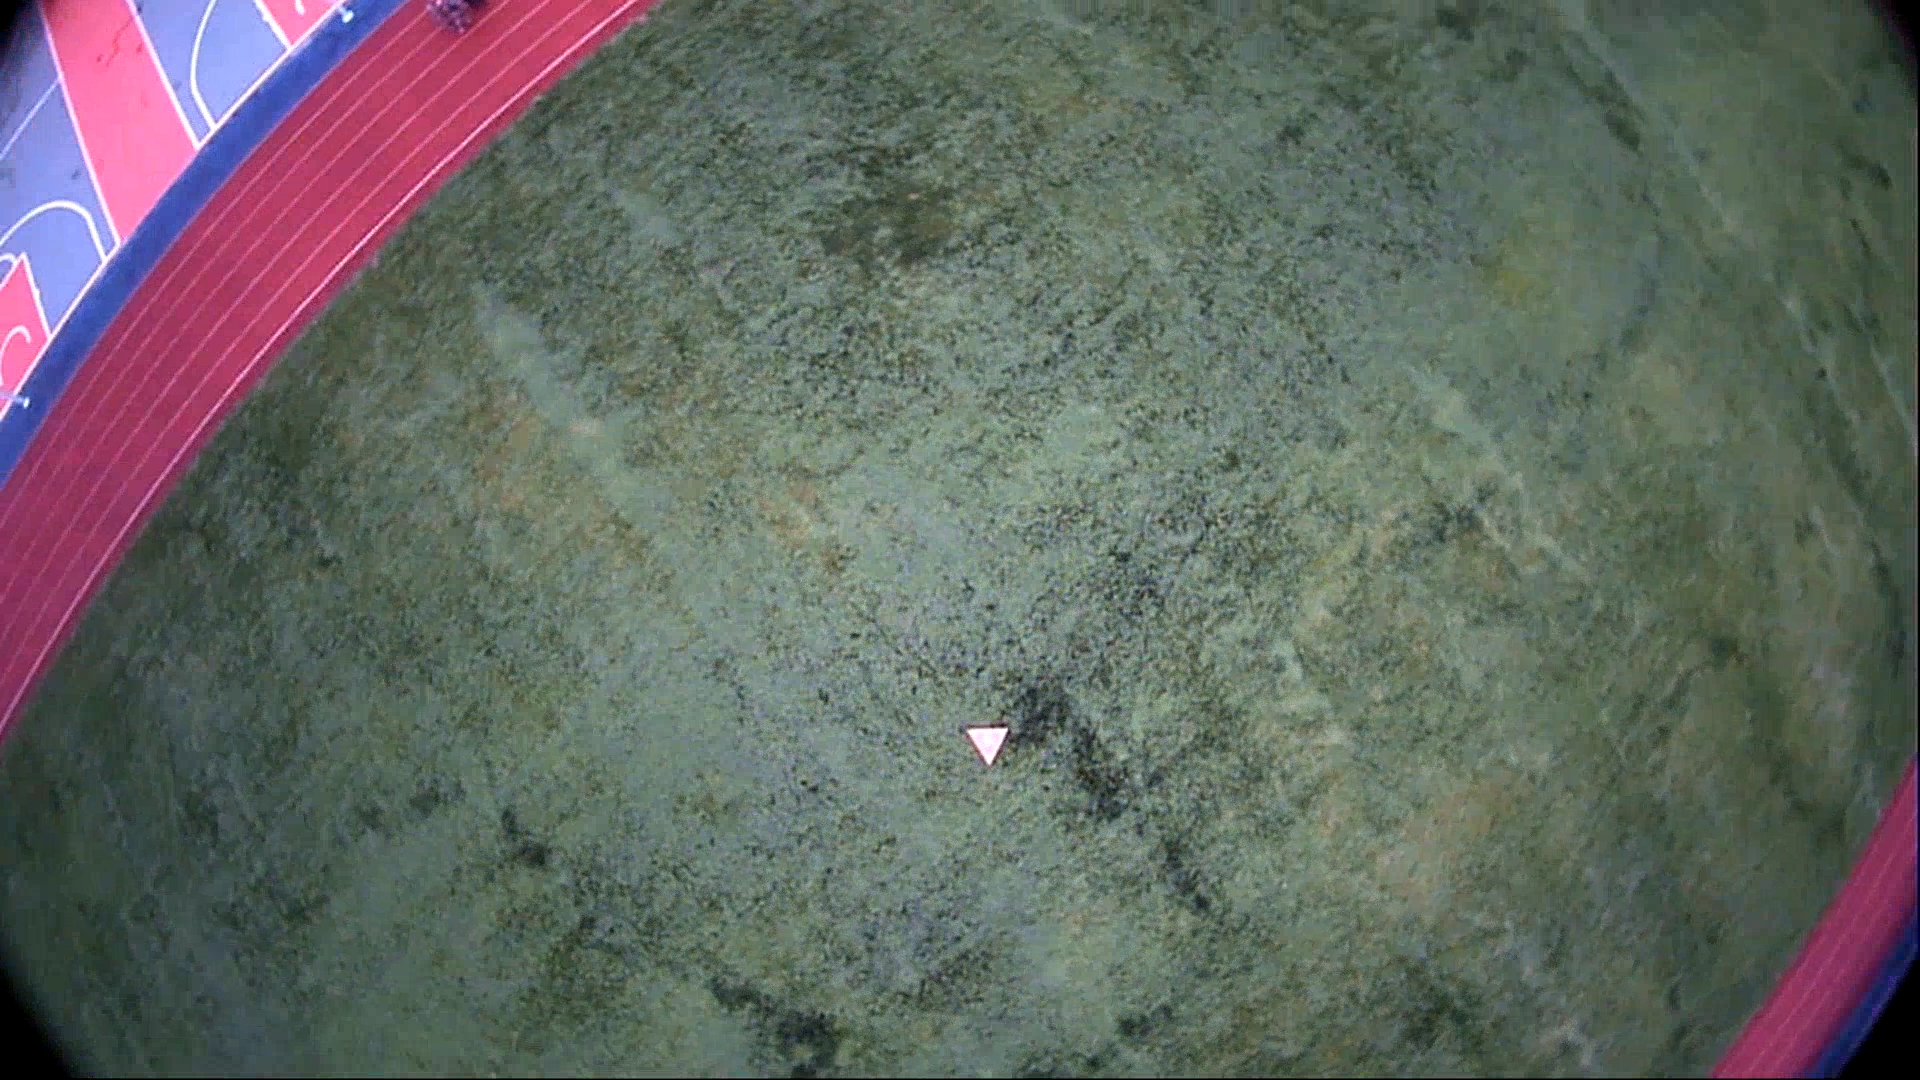triangle: (963, 723, 1011, 771)
